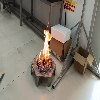fire: (38, 21, 52, 67)
